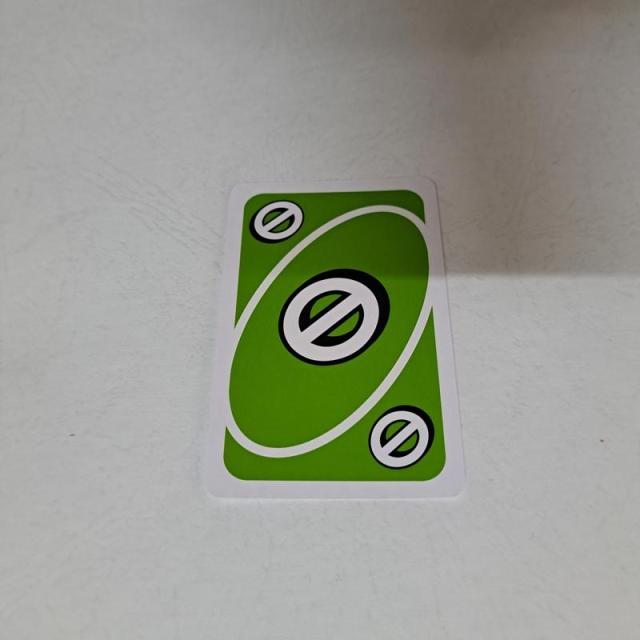Green_Card: (221, 184, 454, 488)
Skip: (247, 195, 308, 250)
